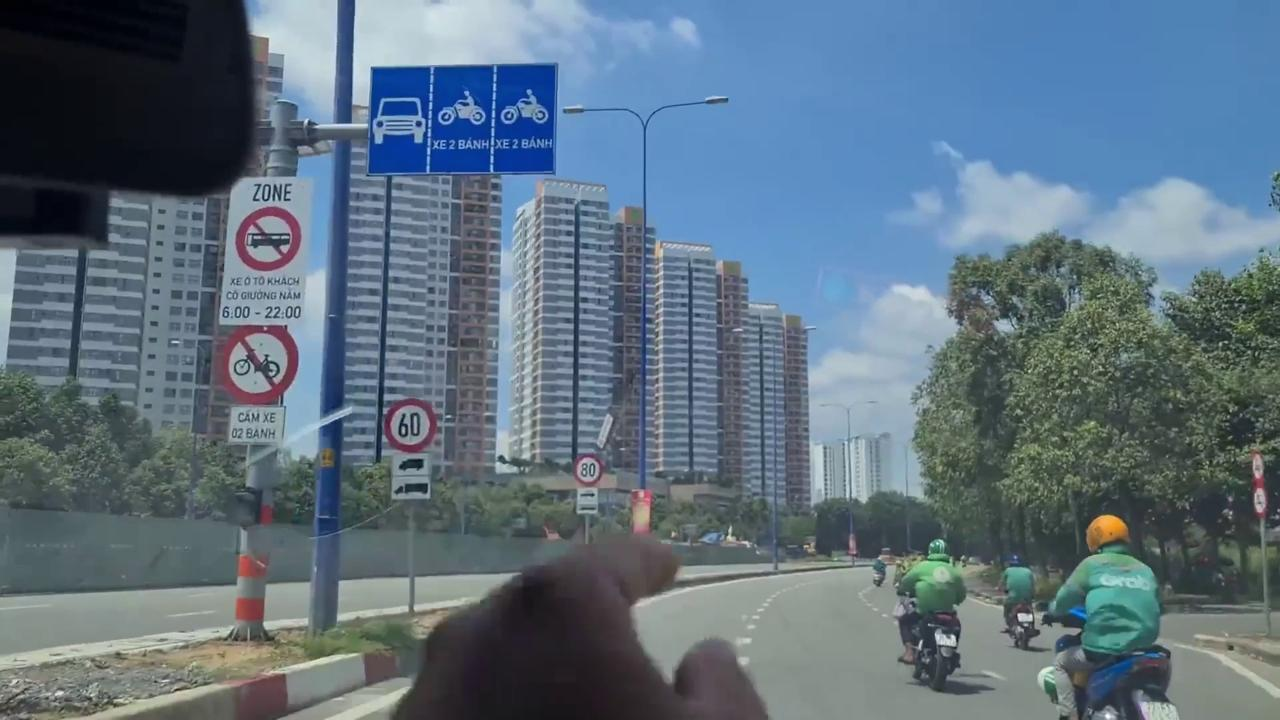Biển phụ: (226, 404, 284, 447), (391, 451, 432, 499), (575, 486, 599, 514)
Cấm cac phương tiện hoạt động trong khung giờ cố định: (215, 173, 315, 320)
Cấm xe máy: (217, 321, 300, 406)
GIơi hạn tốc độ 60Km/h: (384, 397, 437, 454)
Giới hạn tốc độ 80Km/h: (572, 452, 604, 488)
Làn đường cho từng xe: (360, 62, 561, 174)
